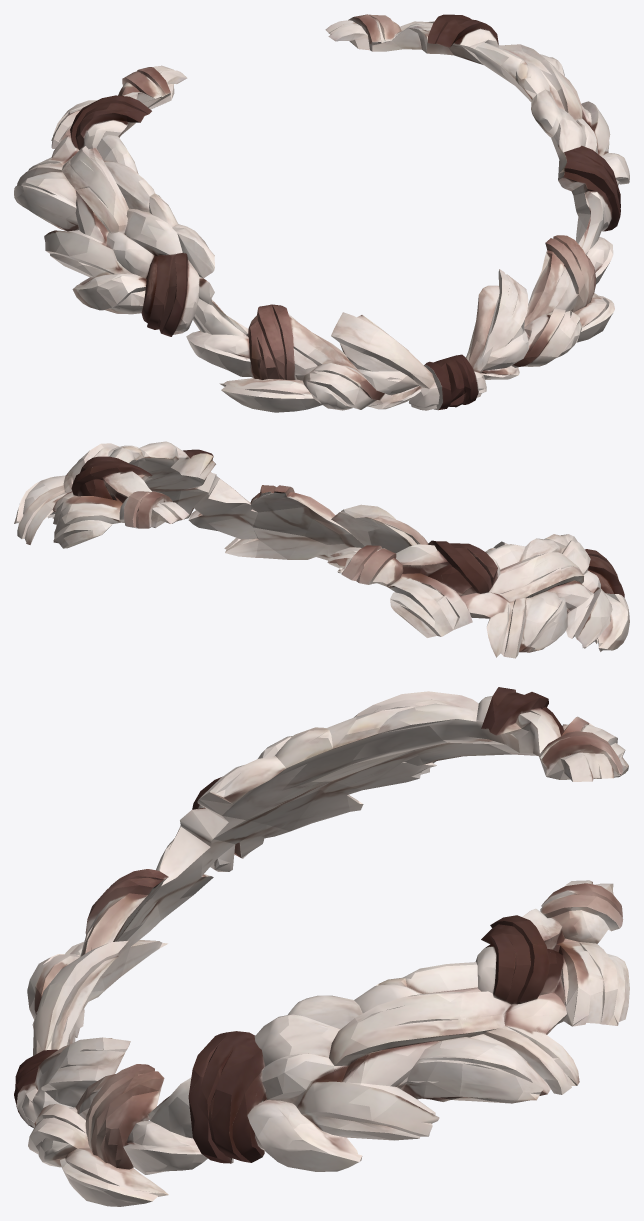
Rendered from thalor_f-chignon-femme-couronne.glb.
3 renders of one model, top to bottom at view 1: azimuth 30°, elevation 25°; view 2: azimuth 150°, elevation 25°; view 3: azimuth 270°, elevation 25°, orthographic. The views are drawn at different scales.
Visible parts, largest first — view 1: geometry_0; view 2: geometry_0; view 3: geometry_0.
Part boxes in pixels (x1,y1,x2,y2): geometry_0: (14,14,629,412); geometry_0: (14,441,629,658); geometry_0: (14,687,629,1206).
Bounding box in the file's own units: 1.9 × 0.7481 × 1.34.
Materials: 1 (1 with a texture image).
